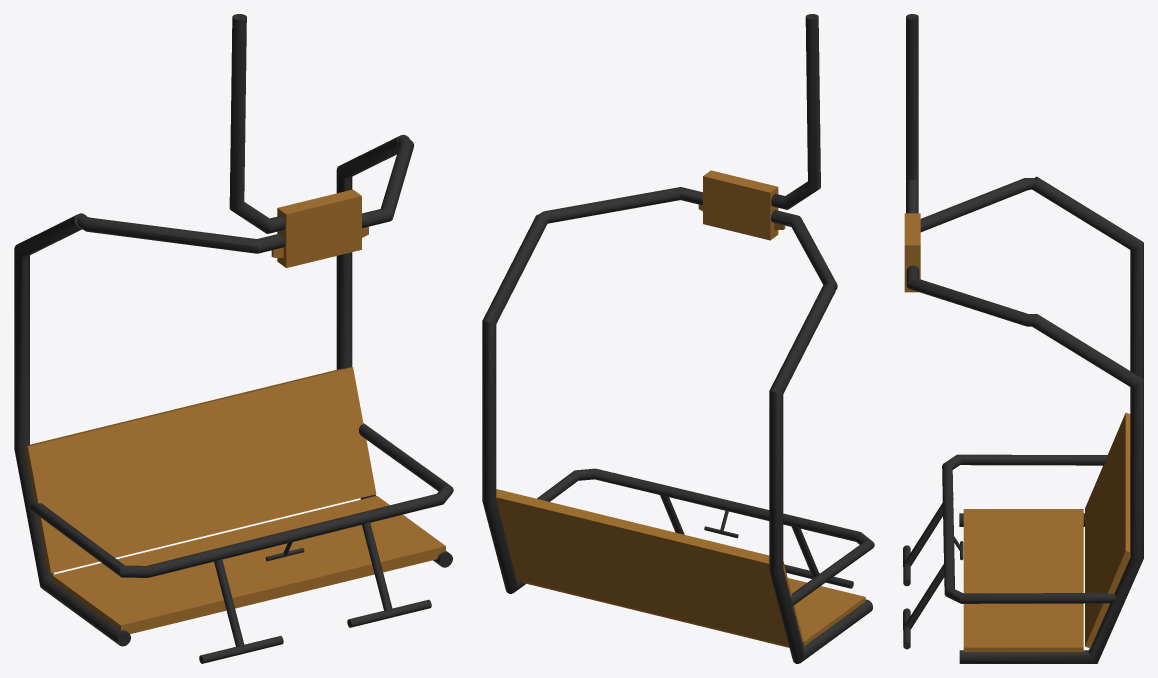
Rendered from Chairlift_1379.gltf.
The picture shows the model from 3 angles, left to right: view 1: azimuth 30°, elevation 25°; view 2: azimuth 150°, elevation 25°; view 3: azimuth 270°, elevation 25°; orthographic projection. The views are drawn at different scales.
Parts seen in each view (by area): view 1: node-0; view 2: node-0; view 3: node-0.
Boxes of the visible parts, x1,y1,x2,y2 form: node-0: (14,14,453,663); node-0: (482,14,874,663); node-0: (903,14,1143,663).
Bounding box in the file's own units: 45.45 × 81.92 × 32.32.
